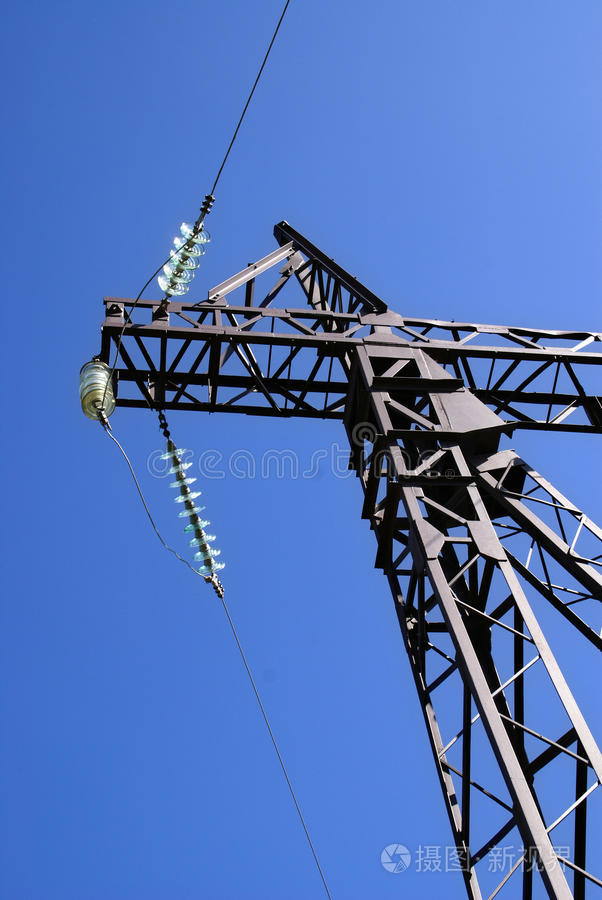insulator: (160, 449, 225, 576), (156, 222, 213, 299), (80, 360, 116, 423)
